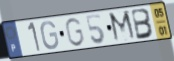1: (26, 21, 42, 53)
5: (84, 12, 107, 47)
B: (130, 8, 155, 42)
G: (64, 16, 86, 48), (40, 20, 61, 51)
M: (107, 9, 138, 44)
